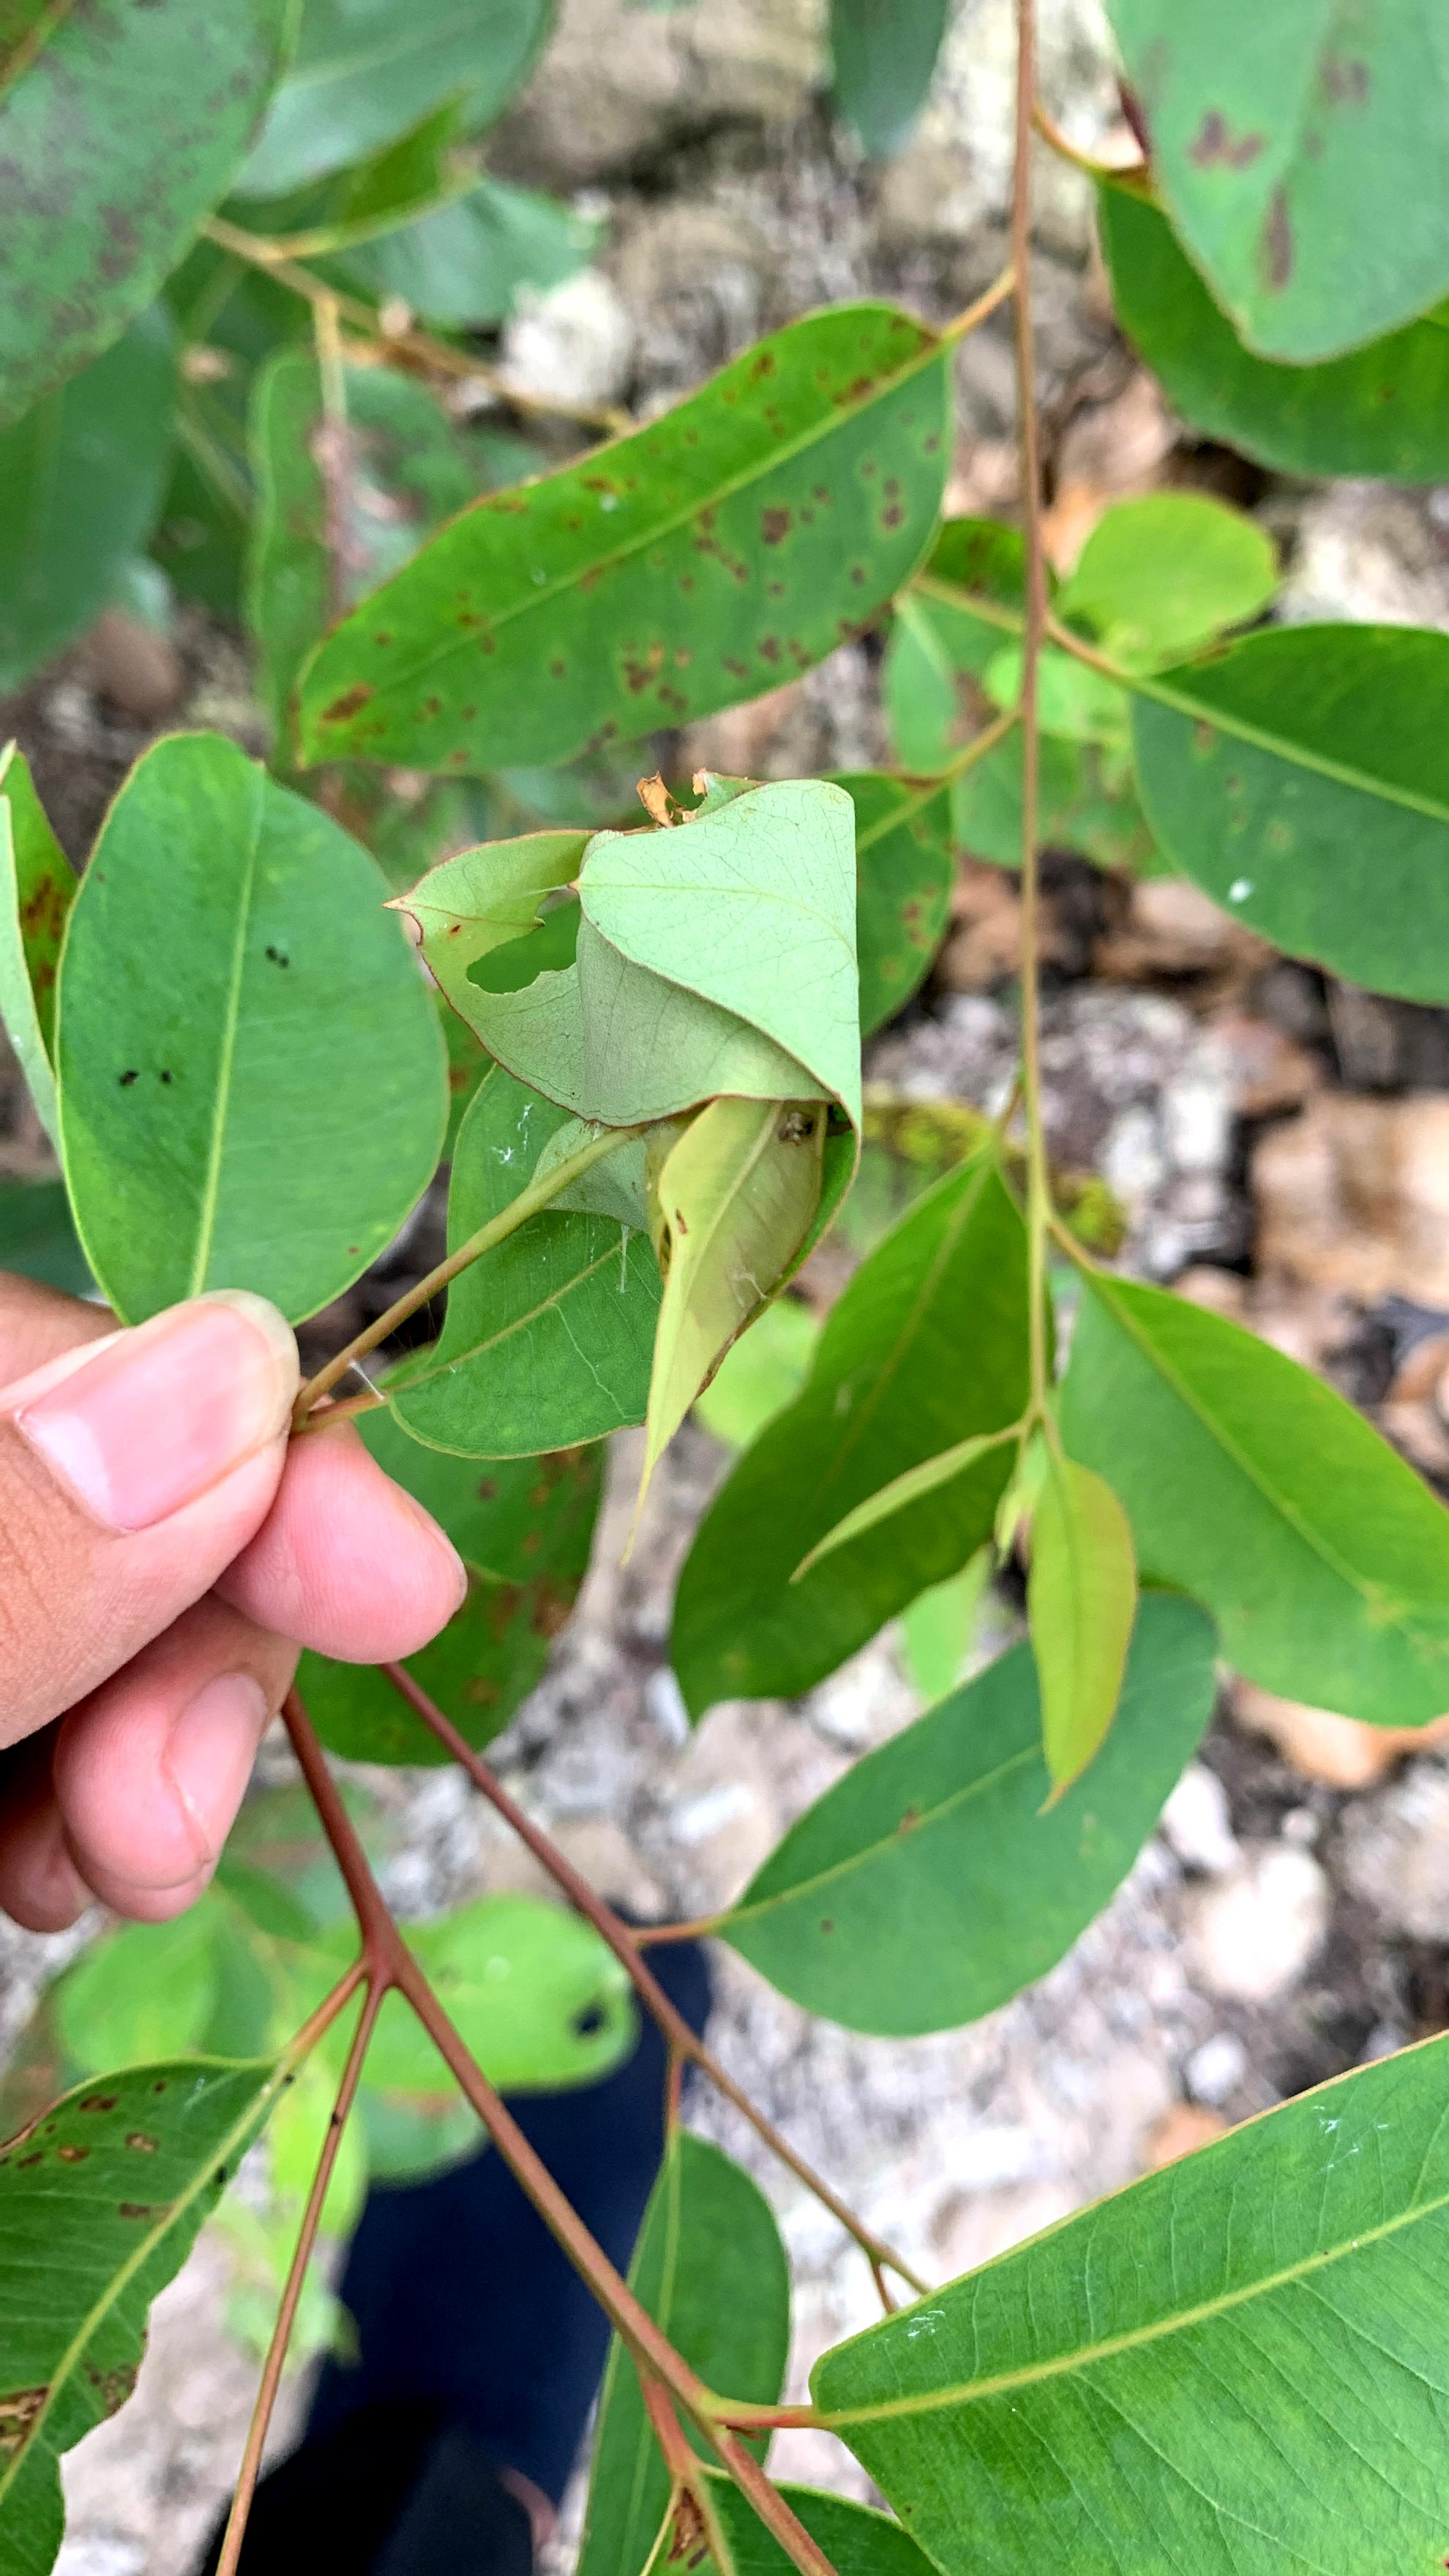Leaf Roller - Leaf: (425, 802, 855, 1463)
